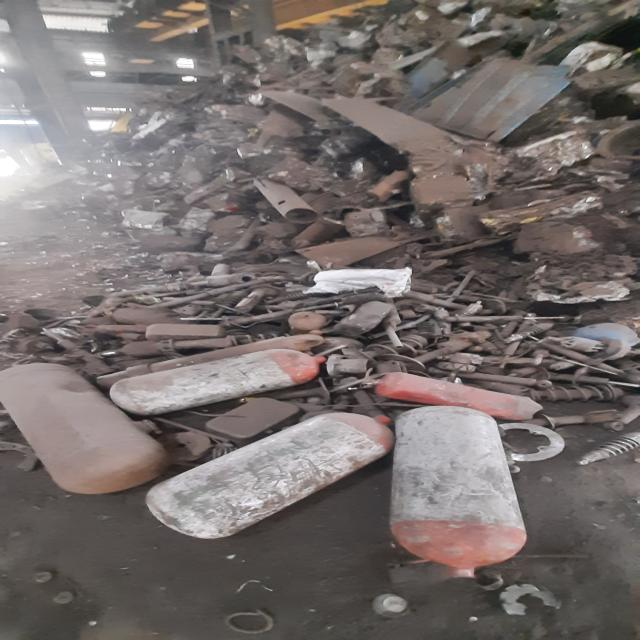Cylinder: (147, 413, 393, 539), (0, 363, 171, 496), (390, 407, 527, 573), (110, 351, 322, 417), (375, 372, 543, 423)
Shock-Absorbers: (350, 333, 430, 363), (529, 383, 622, 403), (578, 437, 634, 467), (220, 333, 298, 349), (504, 322, 551, 344)
